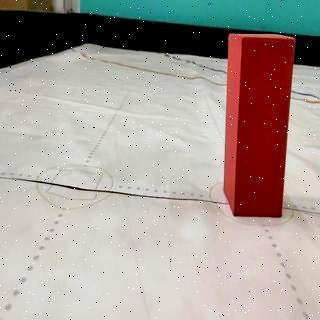redbox: (222, 33, 296, 216)
